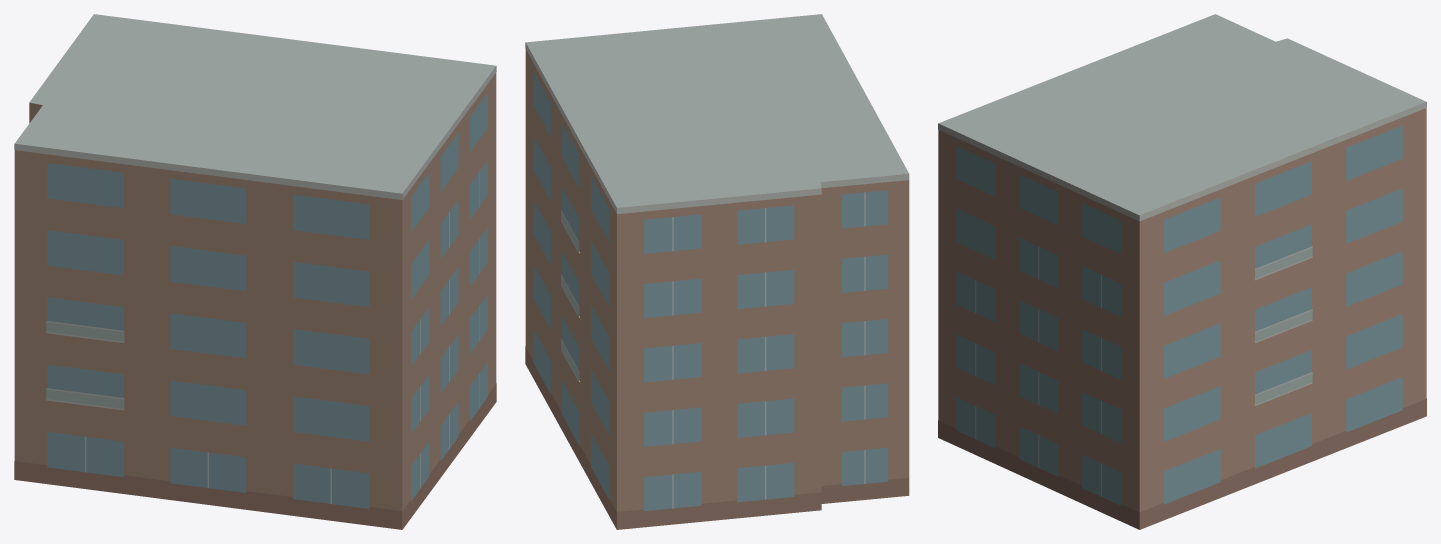
File: survey-upis-32686897.glb
3 views of the same model, side by side, from view 1: azimuth 30°, elevation 25°; view 2: azimuth 150°, elevation 25°; view 3: azimuth 270°, elevation 25° (orthographic). The views are drawn at different scales.
Visible parts, largest first — view 1: survey-upis-32686897.tmp; view 2: survey-upis-32686897.tmp; view 3: survey-upis-32686897.tmp.
Part boxes in pixels (x1,y1,x2,y2): survey-upis-32686897.tmp: [14, 14, 496, 529]; survey-upis-32686897.tmp: [525, 14, 909, 529]; survey-upis-32686897.tmp: [938, 14, 1426, 529].
Size of the model in its own units: 17.6 by 12.8 by 18.04.
